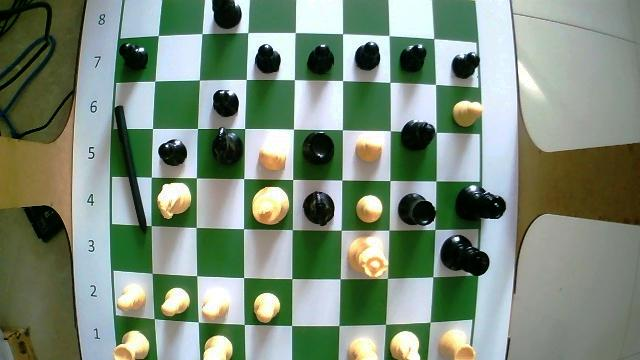piece: (441, 236, 488, 275), (456, 186, 504, 219), (348, 237, 387, 277), (251, 187, 288, 223), (398, 193, 434, 225), (157, 183, 189, 218), (212, 127, 243, 163), (303, 191, 334, 225), (401, 120, 435, 150), (302, 133, 334, 164), (114, 331, 148, 359), (441, 331, 473, 359), (161, 288, 189, 316), (307, 45, 334, 74), (390, 332, 418, 359), (253, 293, 279, 322), (212, 0, 239, 27), (120, 43, 148, 69), (452, 101, 481, 126), (356, 195, 382, 222), (159, 140, 187, 165), (117, 285, 145, 310), (451, 53, 479, 78), (202, 292, 228, 318), (255, 44, 279, 72), (355, 42, 378, 70), (401, 46, 426, 71), (214, 90, 238, 116), (259, 147, 285, 170), (204, 336, 229, 359), (355, 137, 381, 159), (350, 338, 376, 359)
